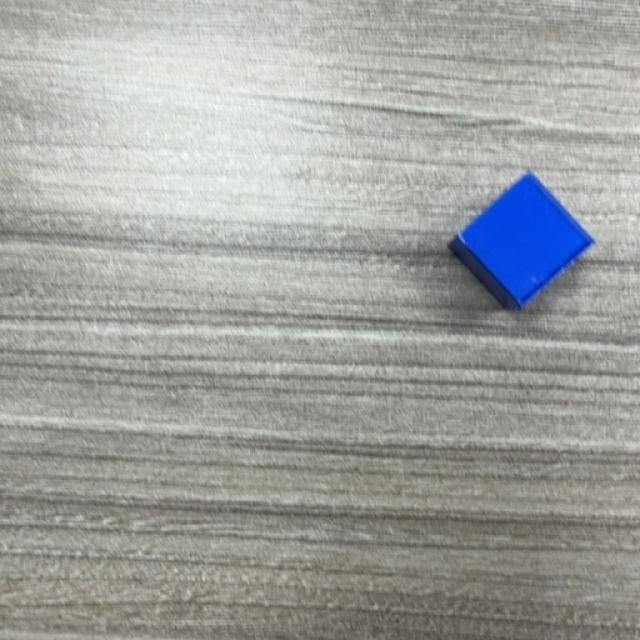Azul: (448, 172, 598, 312)
